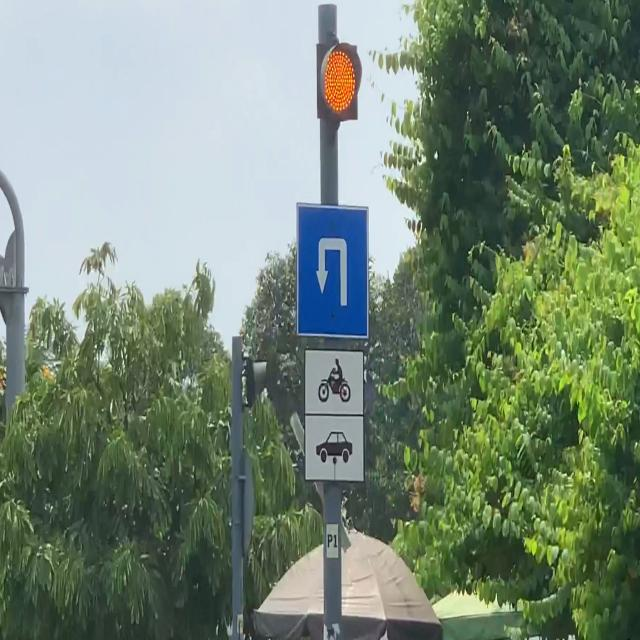Chi dan: (296, 200, 370, 340)
